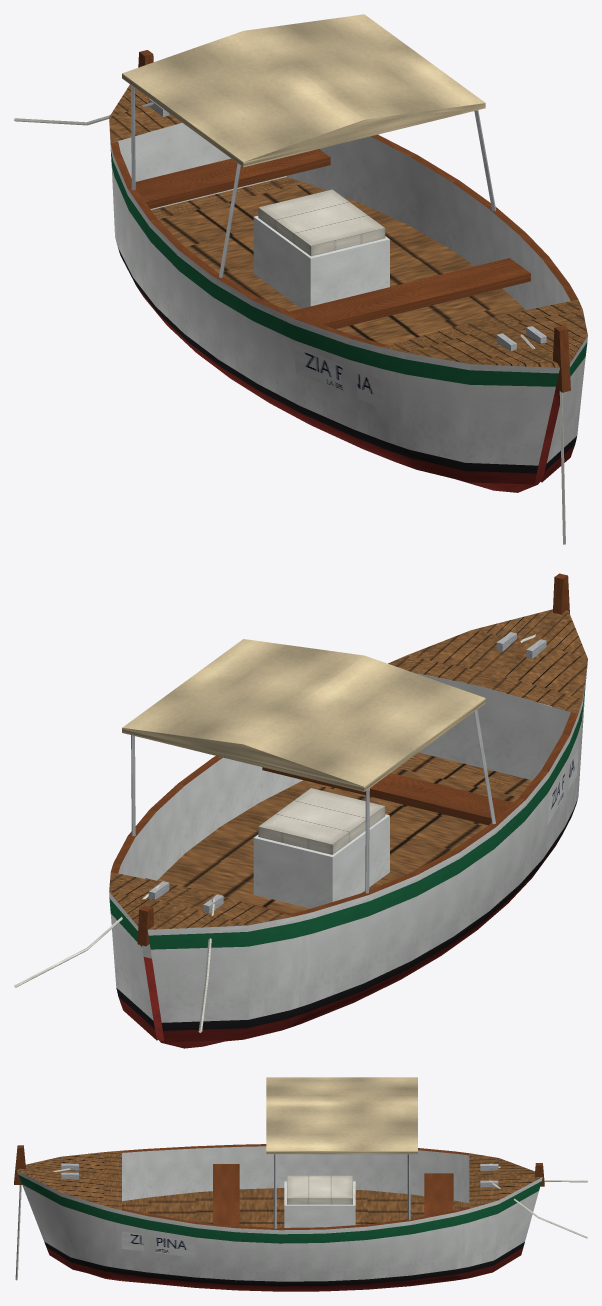
The model's file is SM_Morin_Barca_Gozzo_FasciaVerde.fbx.
3 renders of one model, top to bottom at view 1: azimuth 30°, elevation 25°; view 2: azimuth 150°, elevation 25°; view 3: azimuth 270°, elevation 25°, orthographic. The views are drawn at different scales.
Visible parts, largest first — view 1: SM_Morin_Barca_Gozzo_FasciaVerde; view 2: SM_Morin_Barca_Gozzo_FasciaVerde; view 3: SM_Morin_Barca_Gozzo_FasciaVerde.
Boxes of the visible parts, x1,y1,x2,y2 form: SM_Morin_Barca_Gozzo_FasciaVerde: (14,14,587,544); SM_Morin_Barca_Gozzo_FasciaVerde: (14,573,587,1048); SM_Morin_Barca_Gozzo_FasciaVerde: (14,1077,587,1291).
Size of the model in its own units: 229 by 644 by 222.
Materials: 1 (1 with a texture image).
